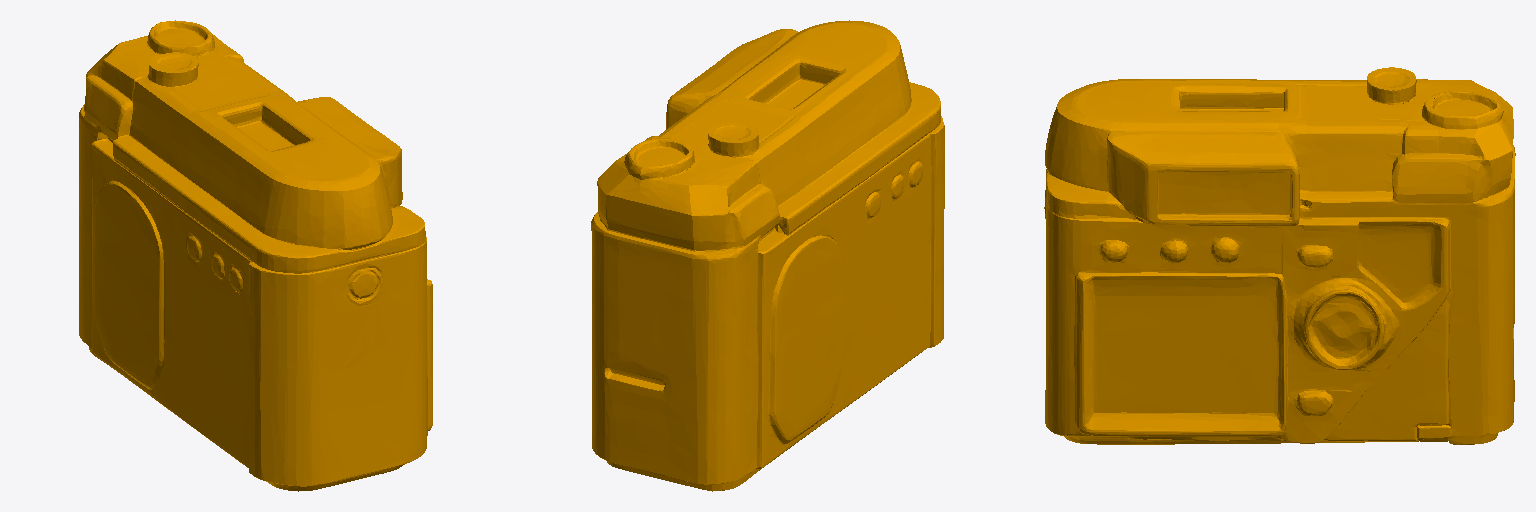
URDF robot description (sample):
<?xml version="1.0" ?>
<robot name="sample">
   <link name="sample">
      <visual>
         <origin xyz="0 0 0" rpy="1.5708 0.0 0.0"/>
         <geometry>
            <mesh filename="mesh/sample.obj" scale="1.0 1.0 1.0"/>
         </geometry>
      </visual>
      <collision>
         <origin xyz="0 0 0" rpy="1.5708 0.0 0.0"/>
         <geometry>
            <mesh filename="mesh/sample_collision.obj" scale="1.0 1.0 1.0"/>
         </geometry>
         <gazebo>
            <mu1>0.70</mu1>
            <mu2>0.55</mu2>
         </gazebo>
      </collision>
      <inertial>
         <mass value="0.6500"/>
         <origin xyz="0 0 0"/>
         <inertia ixx="1.0" ixy="0.0" ixz="0.0" iyy="1.0" iyz="0.0" izz="1.0"/>
      </inertial>
      <extra_info>
         <scale>0.157965</scale>
         <version>v0.1.7</version>
         <category>camera</category>
         <description>compact digital camera with lcd screen and lens</description>
         <min_height>0.1</min_height>
         <max_height>0.14</max_height>
         <real_height>0.12</real_height>
         <min_mass>0.5</min_mass>
         <max_mass>0.8</max_mass>
         <color>black</color>
         <rgba>[0.1, 0.1, 0.1, 1.0]</rgba>
         <generate_time>20260610164434</generate_time>
         <gs_model>mesh/sample_gs.ply</gs_model>
      </extra_info>
   </link>
   <custom_data>
      <quality>
         <MeshGeoChecker>YES</MeshGeoChecker>
         <ImageSegChecker>NO - Camera is not fully centered, has visible background artifacts, and strap is partially cut off.</ImageSegChecker>
         <ImageAestheticChecker>4.770522236824036</ImageAestheticChecker>
         <overall>NO</overall>
      </quality>
   </custom_data>
</robot>

--- What the picture shows (computed from the rendered views, not written in the file) ---
The picture shows the robot from 3 angles, left to right: view 1: azimuth 30°, elevation 25°; view 2: azimuth 150°, elevation 25°; view 3: azimuth 270°, elevation 25°; orthographic projection.
Robot: sample — 1 links, 0 joints (none); root link sample; default pose: all joints at 0.
Visible links, largest first — view 1: sample; view 2: sample; view 3: sample.
Link boxes in pixels (box(x1,y1,x2,y2)): sample: box(79, 20, 432, 491); sample: box(591, 20, 944, 491); sample: box(1044, 67, 1515, 444).
Bounding box of the posed robot: 0.0731 × 0.158 × 0.12 m (x, y, z).
Meshes: 1 distinct files referenced, 1 mesh visuals loaded (1 OBJ).
